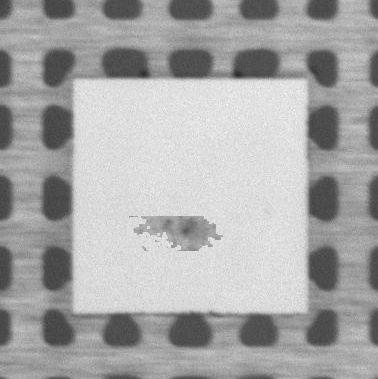DIE_INK: (129, 217, 227, 252)
